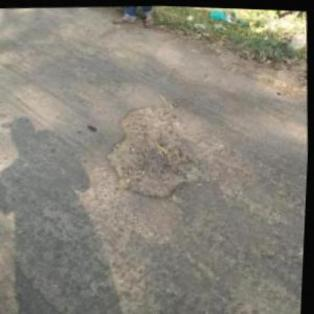Hueco: (102, 97, 210, 203), (106, 78, 136, 98)
